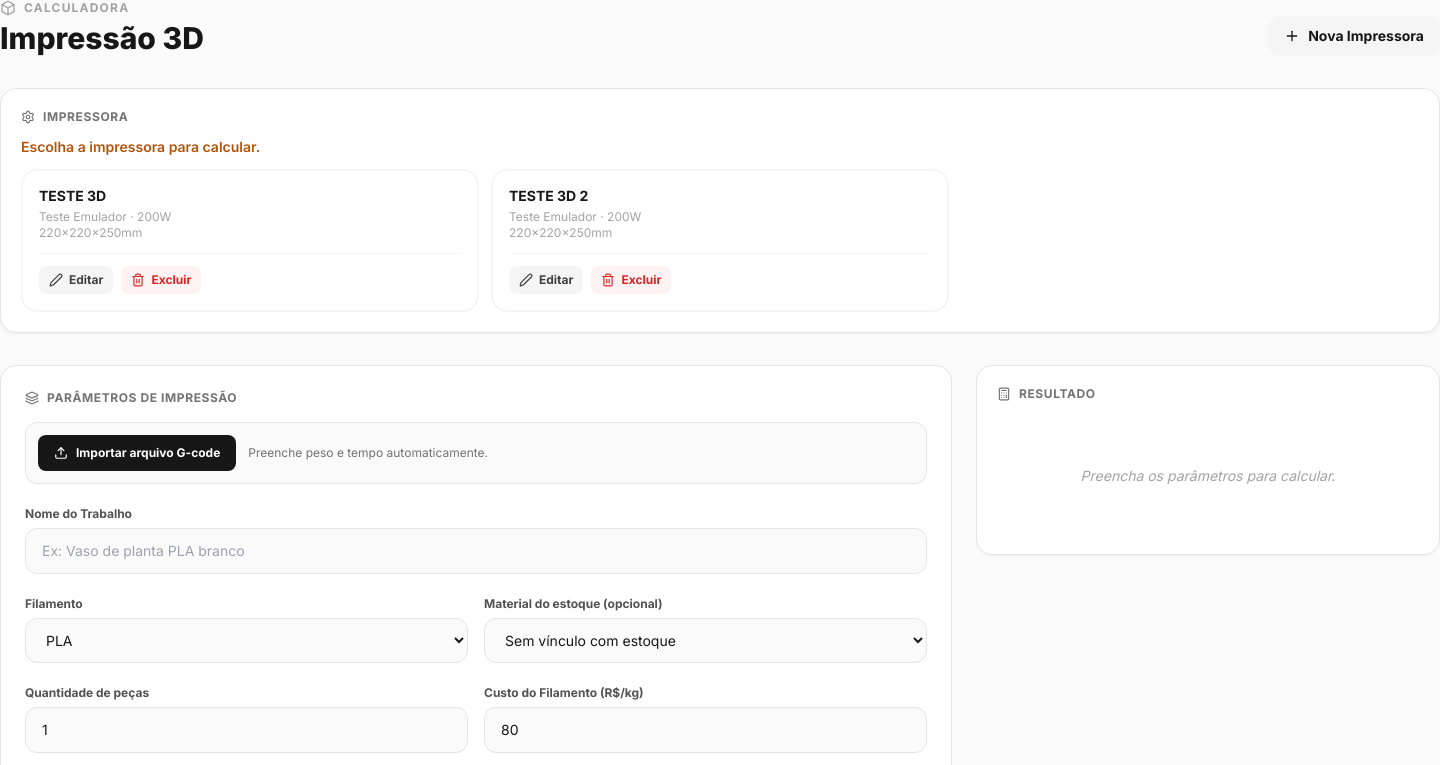
Test case: Impressão 3D › item 11: com duas impressoras, abre sem nenhuma marcada e pede para escolher
Click the element with class "cursor-pointer" that starts with "TESTE 3D 2": (720, 240) [491, 169, 949, 312]
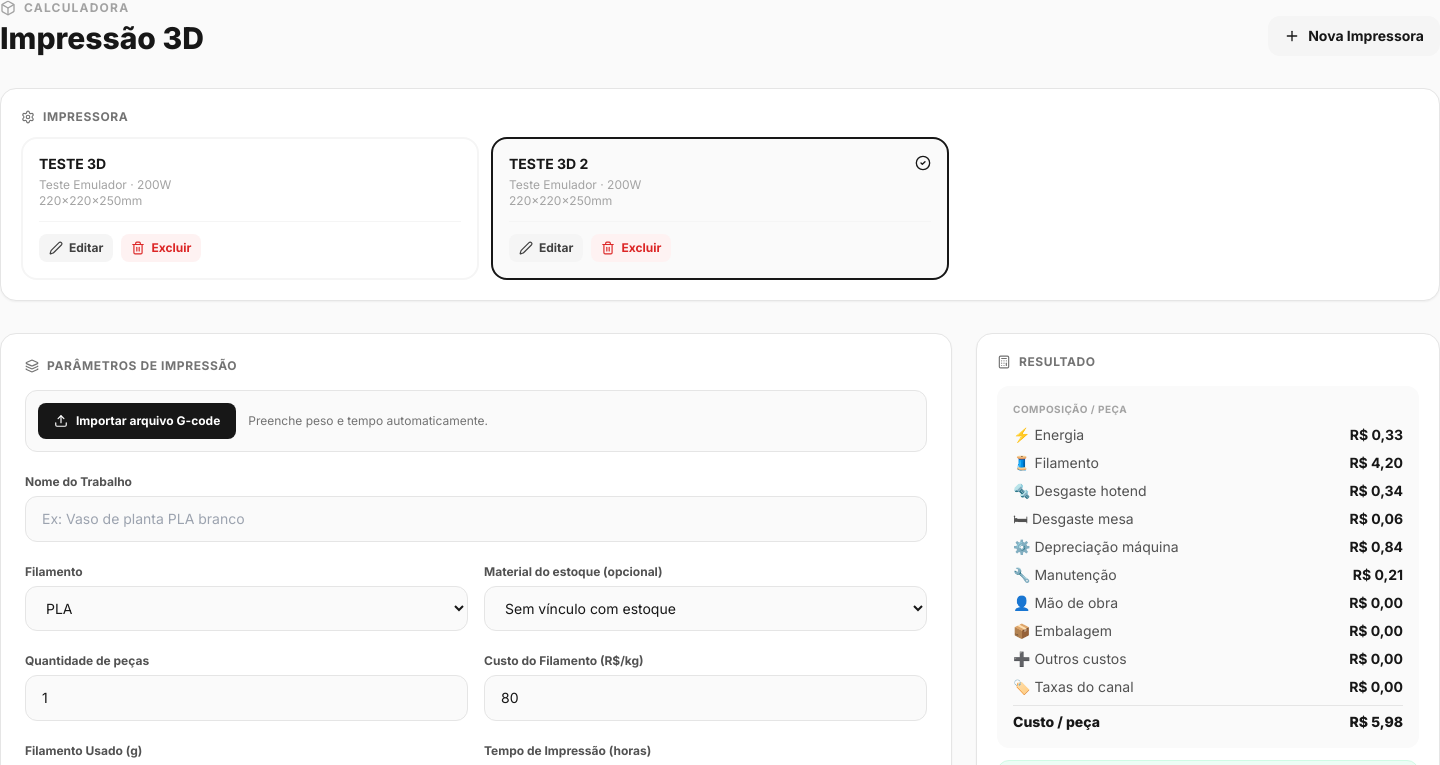
Expected: the text "Escolha a impressora para calcular." is gone
